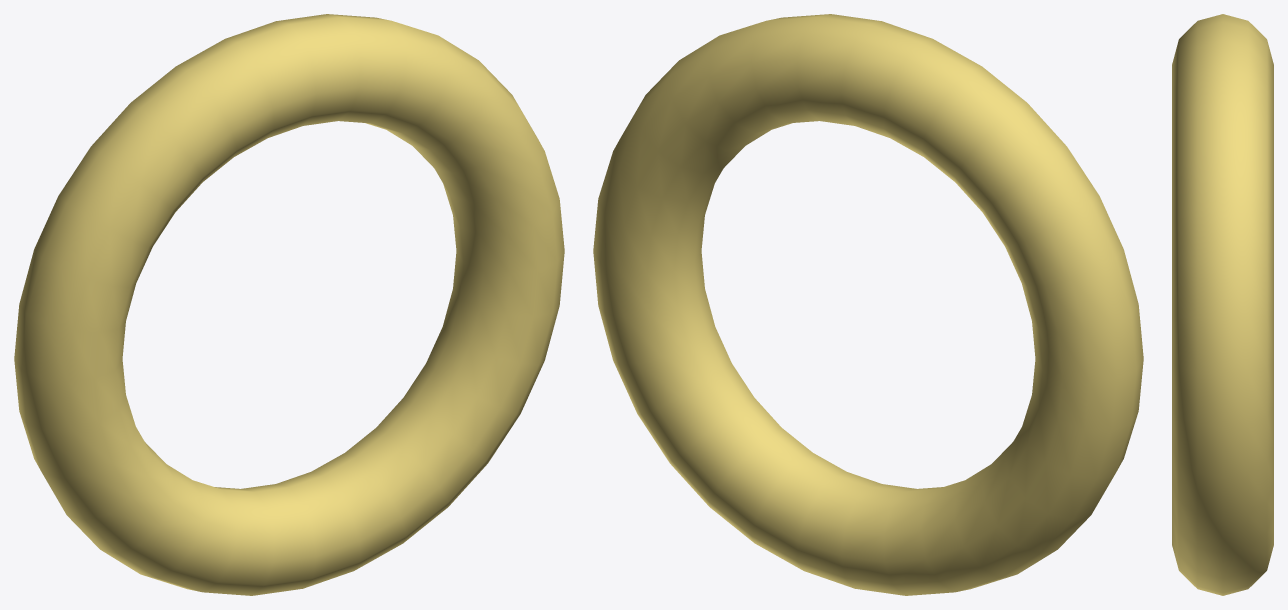
File: ACX_OR_8MM_GOLD.glb
3 views of the same model, side by side, from view 1: azimuth 30°, elevation 25°; view 2: azimuth 150°, elevation 25°; view 3: azimuth 270°, elevation 25° (orthographic). The views are drawn at different scales.
Visible parts, largest first — view 1: ACX_OR_8MM_GOLD; view 2: ACX_OR_8MM_GOLD; view 3: ACX_OR_8MM_GOLD.
Part boxes in pixels (box(x1,y1,x2,y2)): ACX_OR_8MM_GOLD: box(14, 14, 564, 595); ACX_OR_8MM_GOLD: box(593, 14, 1143, 595); ACX_OR_8MM_GOLD: box(1172, 14, 1273, 595).
Bounding box in the file's own units: 0.8 × 0.8 × 0.14.
